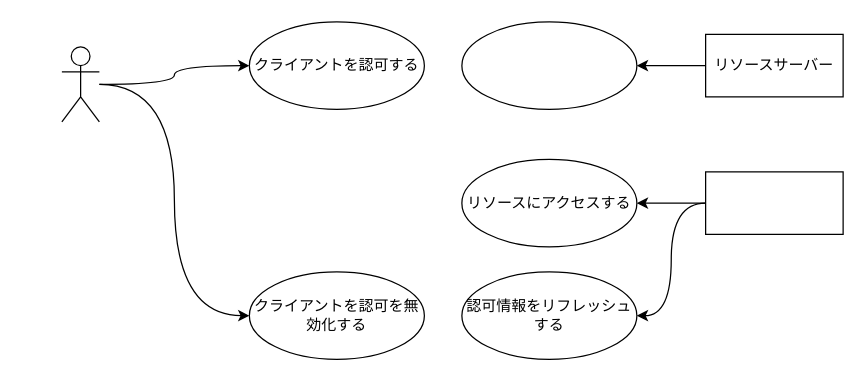
The diagram is 865 pixels wide and 381 high, and some of its shapes have lost their labels. The shapes that lost their labels are listed below. From the top down, each one's centre as x and y in pixels, then its label:
At (80,84): "リソースオーナー".
At (549,65): "クライアントが認可されているか確認する".
At (773,202): "クライアント".
